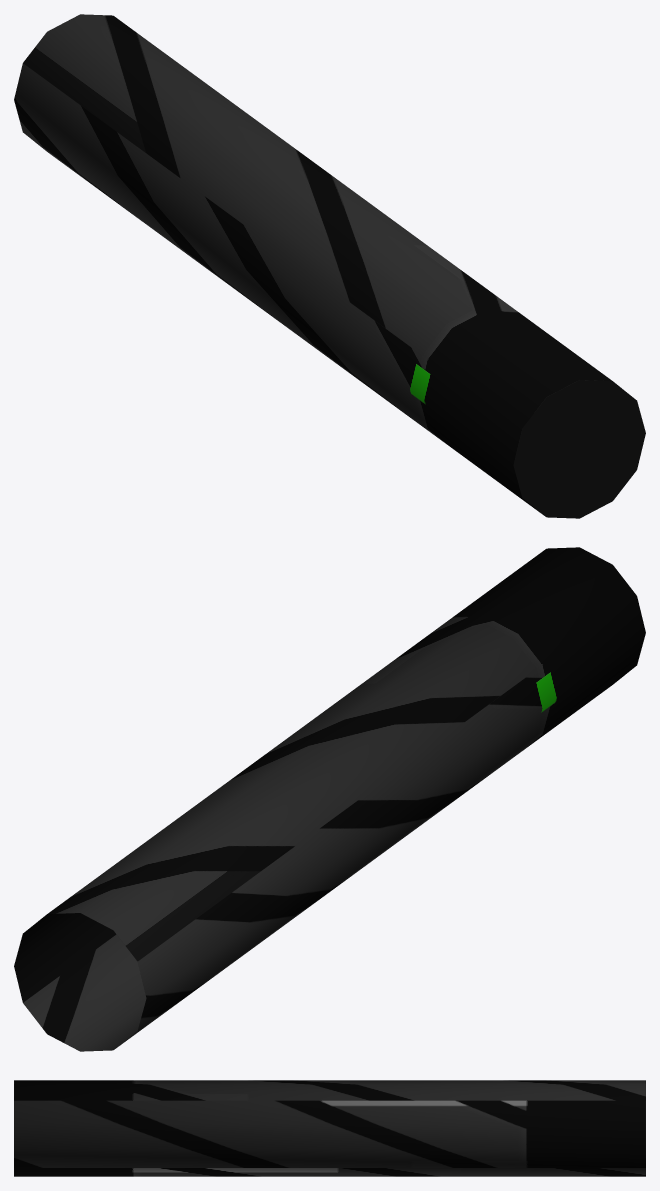
File: PGT_bit.fbx
3 views of the same model, one above another, from view 1: azimuth 30°, elevation 25°; view 2: azimuth 150°, elevation 25°; view 3: azimuth 270°, elevation 25° (orthographic). The views are drawn at different scales.
Visible parts, largest first — view 1: pistolgrip.001; view 2: pistolgrip.001; view 3: pistolgrip.001.
Part boxes in pixels (x1,y1,x2,y2): pistolgrip.001: (14,14,645,518); pistolgrip.001: (14,547,645,1051); pistolgrip.001: (14,1080,645,1176).
Bounding box in the file's own units: 4.58 × 4.58 × 29.91.
